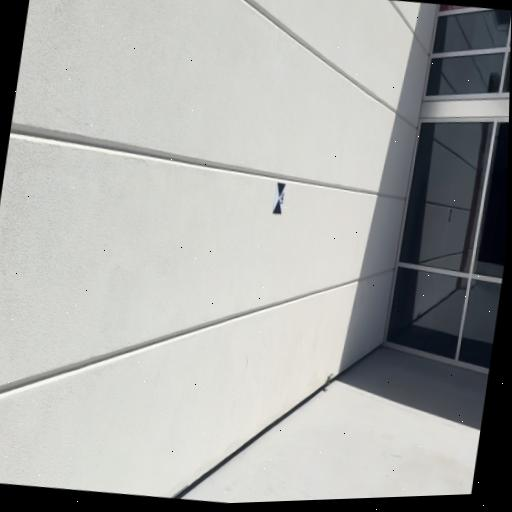target4: (272, 182, 287, 215)
